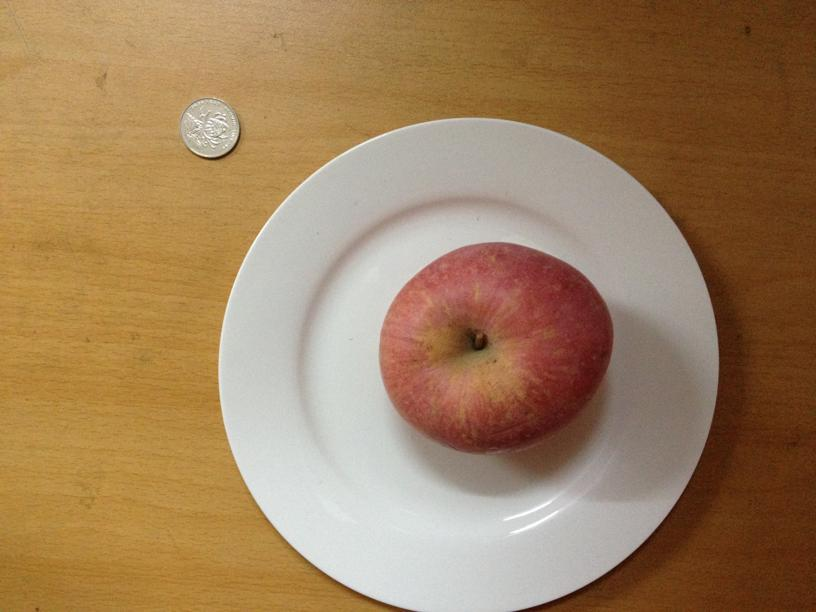apple: (382, 242, 614, 455)
coin: (179, 96, 241, 158)
